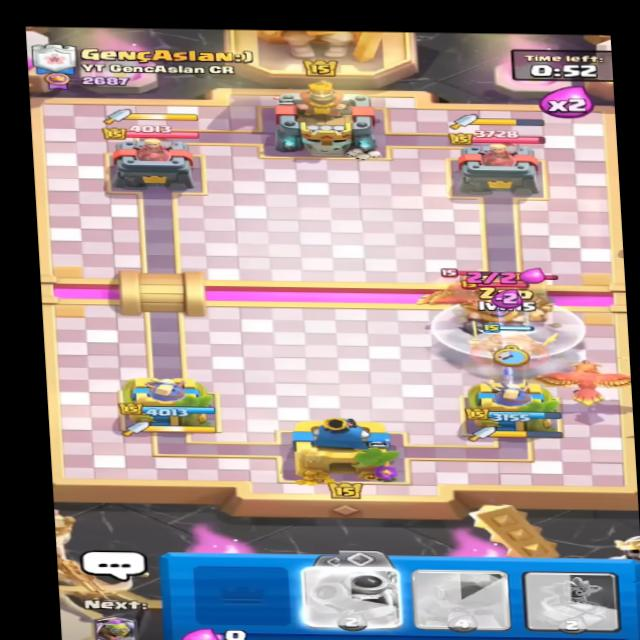mega-knight: (447, 290, 553, 336)
phoenix: (404, 269, 518, 313)
